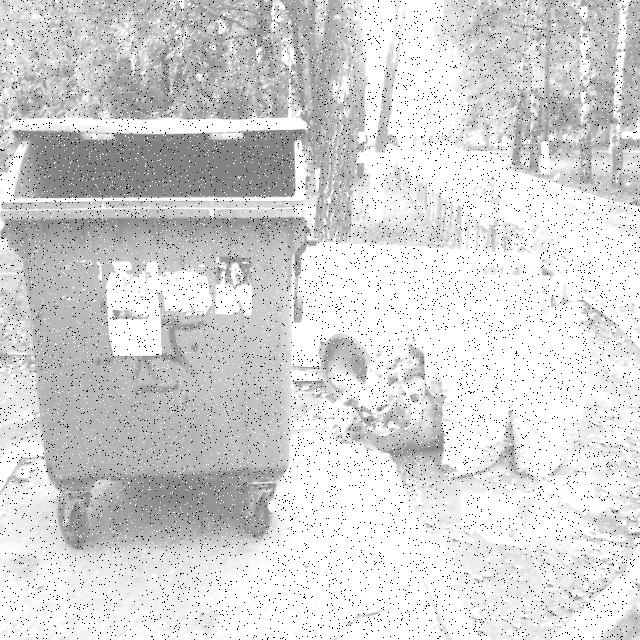Trashcan: (0, 95, 315, 552)
